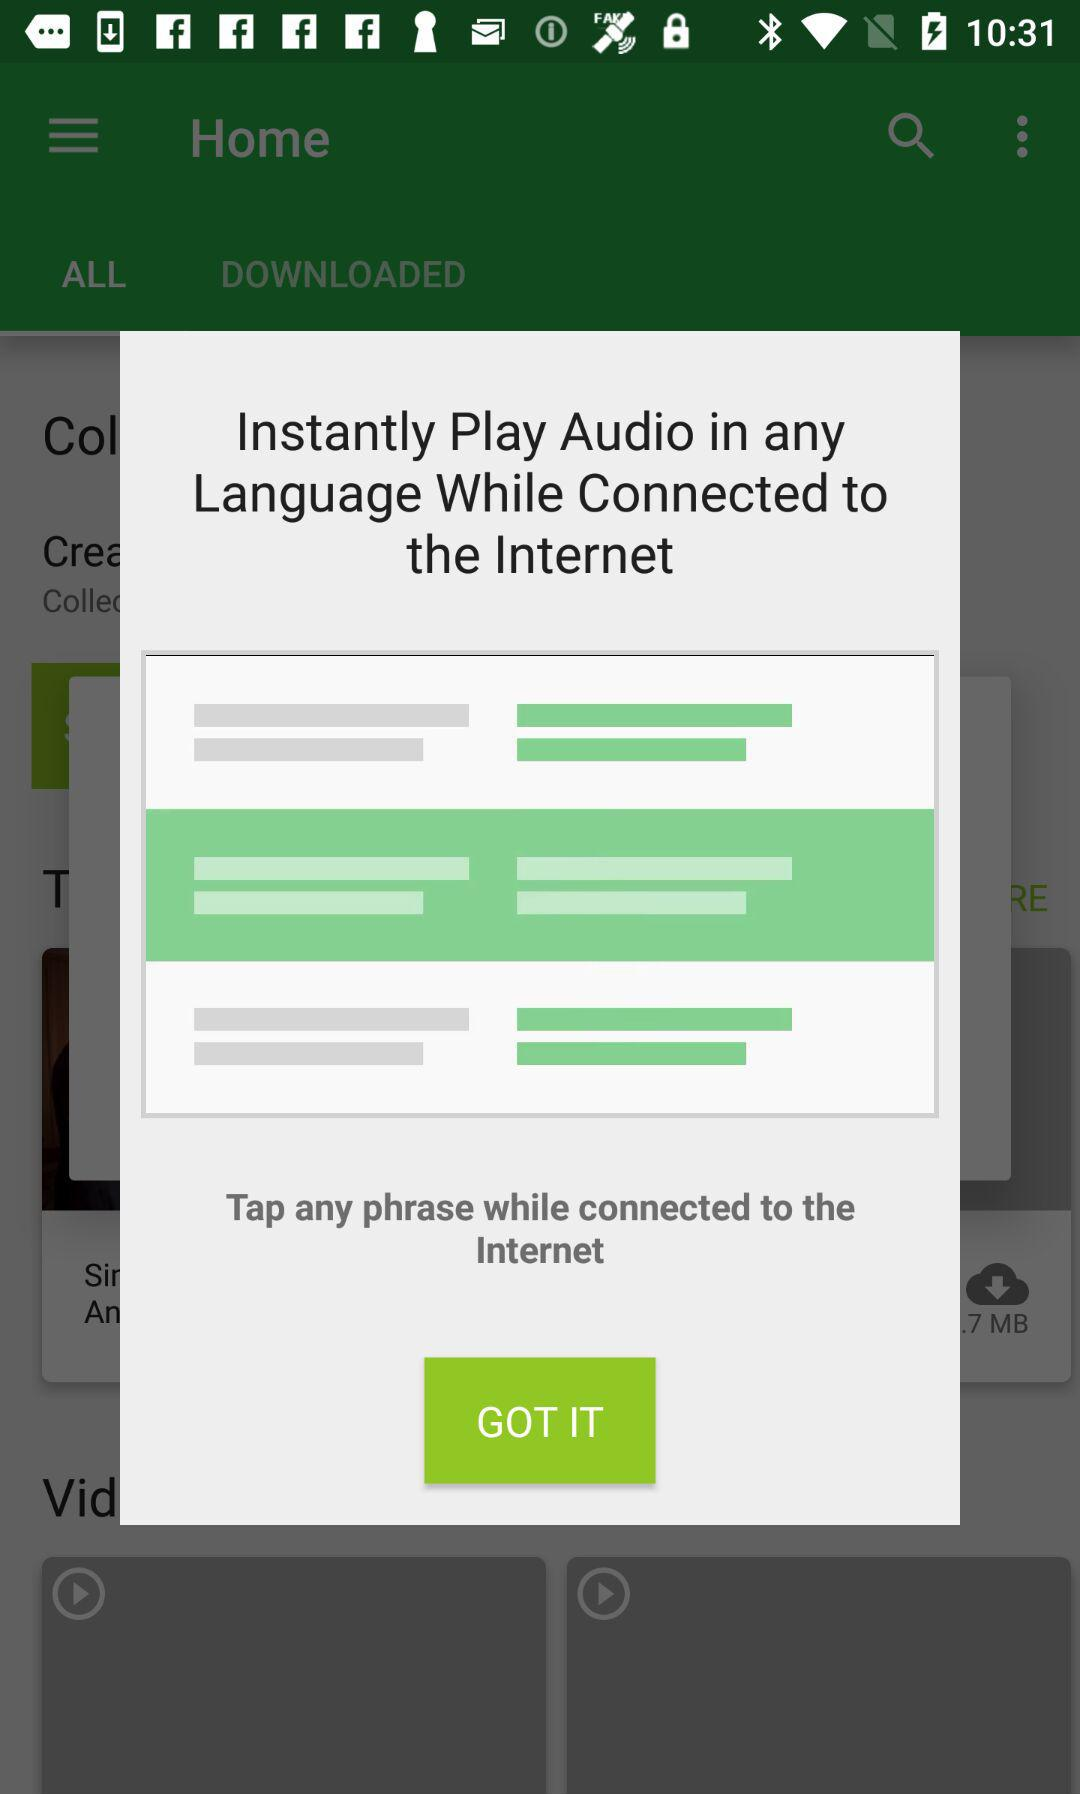Icon: (887, 113, 935, 160), (47, 117, 100, 155), (1016, 115, 1030, 160)
Image: (141, 650, 940, 1119)
Modal: (120, 331, 961, 1526)
Text: (195, 409, 889, 575), (225, 1190, 856, 1263), (222, 261, 468, 290), (193, 119, 331, 160), (61, 260, 127, 290)
TextButton: (424, 1356, 657, 1485)
UpperTaskBar: (1, 1, 1080, 64)
